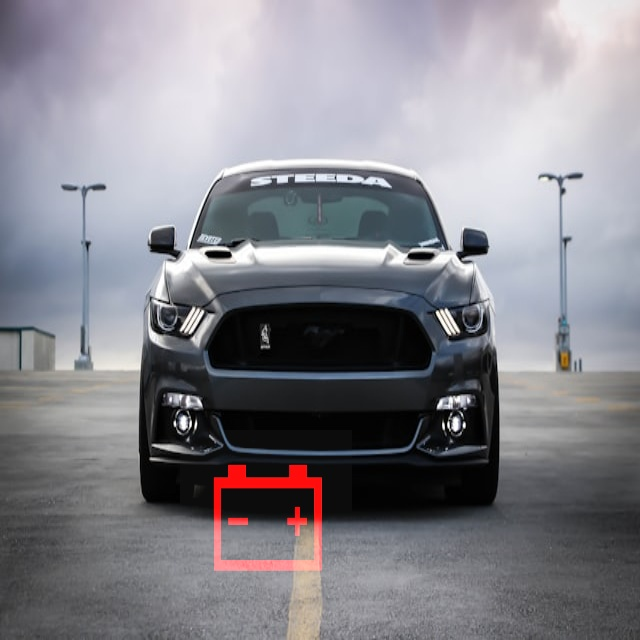symbol: (180, 430, 352, 602)
